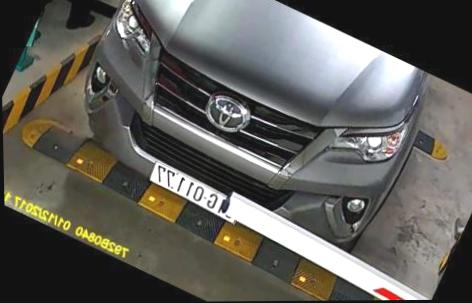License_Plate: (144, 151, 237, 232)
